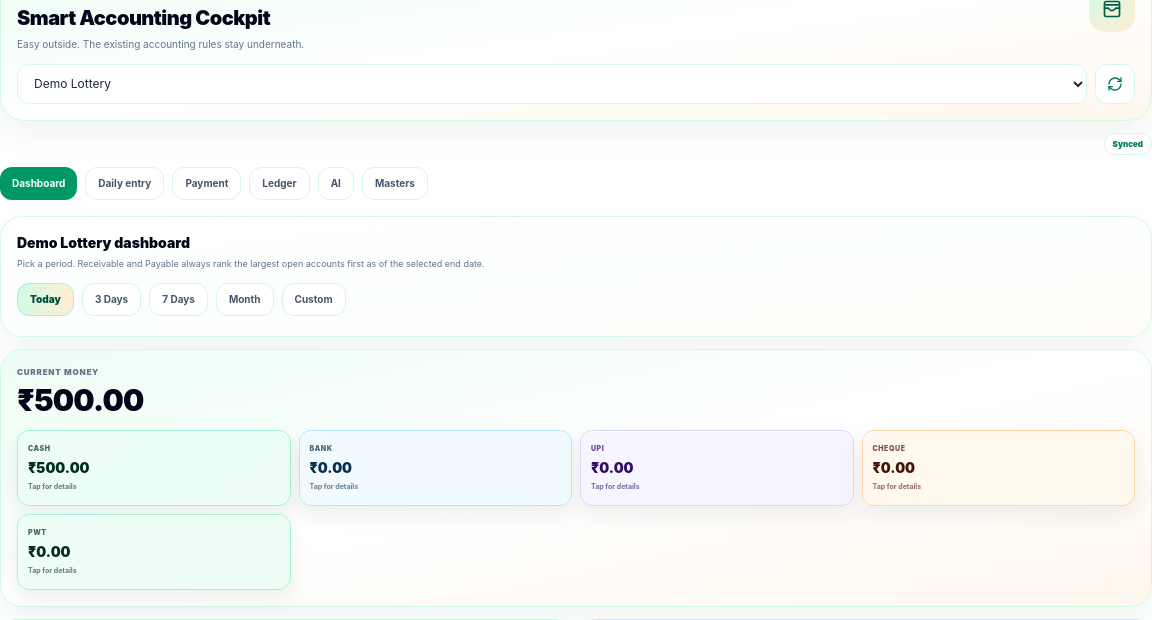
Test: LotteryAccountingWorkspace › keeps one selected seller in Grid and every seller in Table view
Click the button "Daily entry" at point(125, 183), box [85, 167, 164, 200]
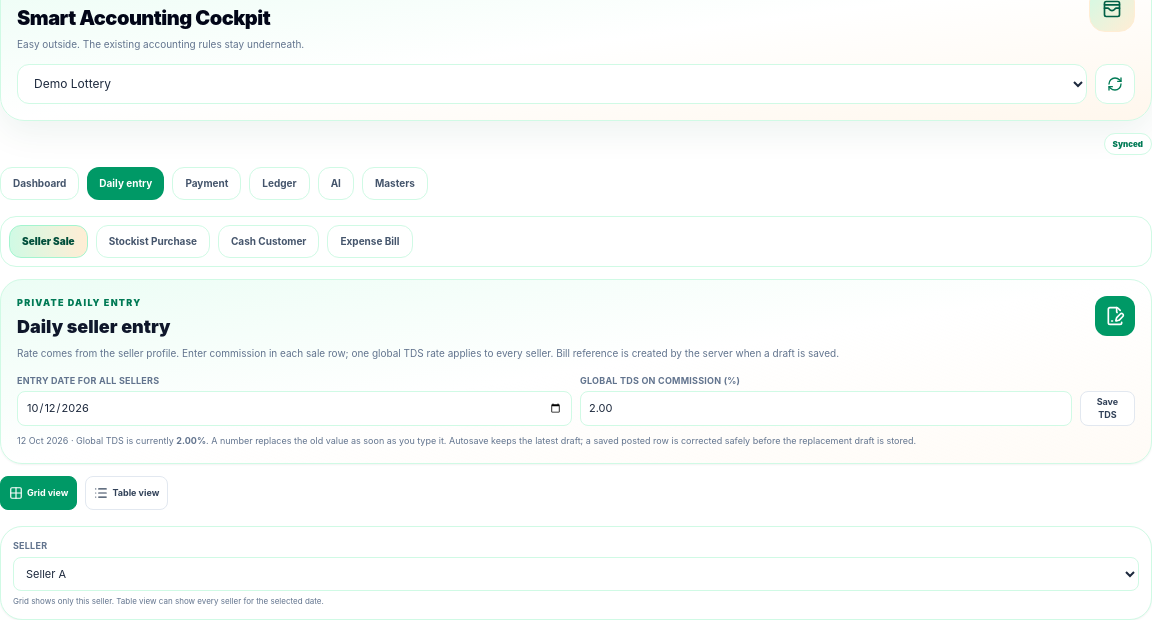
Expected: the text "Seller B" is not shown
Click the button "Table view" at point(127, 493), box [85, 476, 168, 510]
(page scrolled)
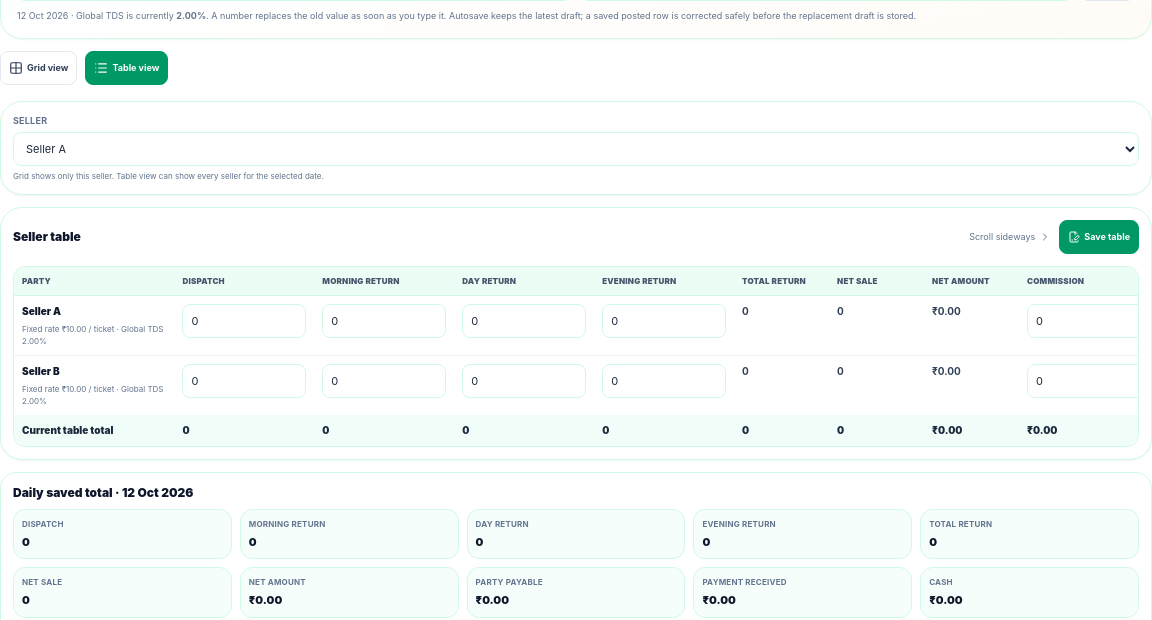
Expected: the text "Seller A" is shown, [22, 304, 61, 316]
Expected: the text "Seller B" is shown, [22, 364, 60, 376]
